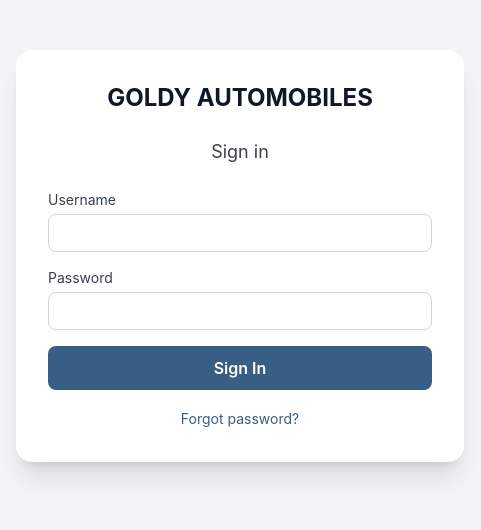
Test case: Workshop onboarding › shows authentication errors directly on the login screen
Check: the button "Sign In" is shown, box [48,346,432,390]
Step 1. Type "owner" into the field labelled "Username" → (240, 233), box [48,214,432,252]
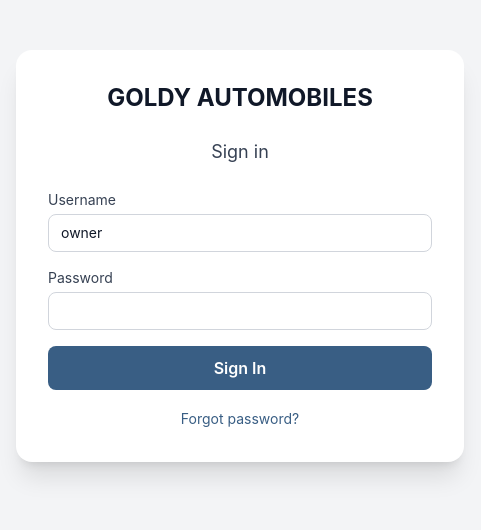
Step 2. Type "incorrect" into the password field labelled "Password" → (240, 311), box [48,292,432,330]
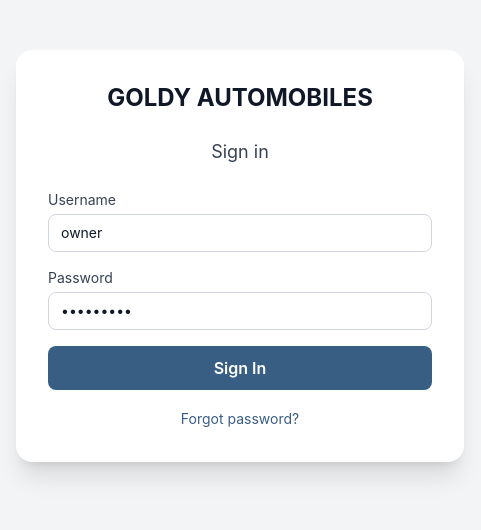
Step 3. Click the button "Sign In" → click(240, 368), box [48,346,432,390]
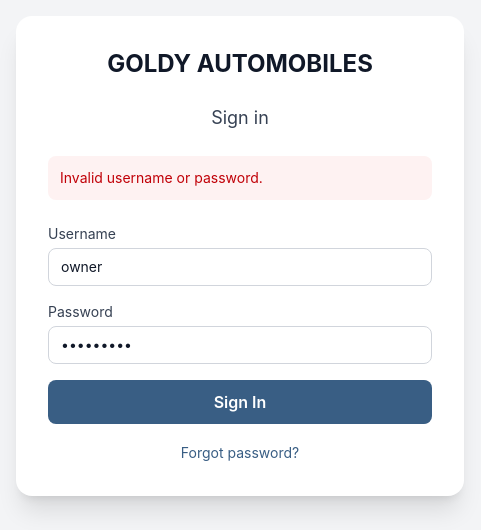
Check: the message reads "Invalid username or password.", box [60,169,263,186]
